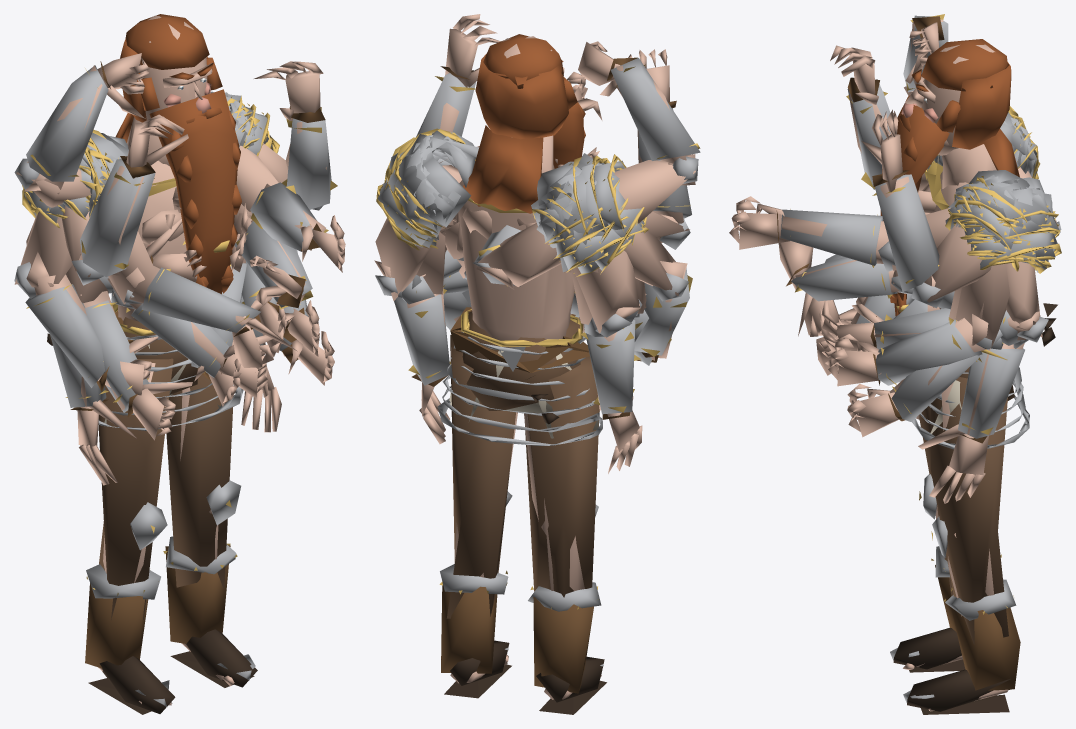
Rendered from dwarf_chain.glb.
3 renders of one model, left to right at view 1: azimuth 30°, elevation 25°; view 2: azimuth 150°, elevation 25°; view 3: azimuth 270°, elevation 25°, orthographic. The views are drawn at different scales.
Parts seen in each view (by area): view 1: B_6d, B_0d, B_7d, R.cast_31d, R.raised_19d, R.staffR_27d, R.xbowR_39d, L.cast_67d, R.staffR_25d, L.bowArm_55d, R.weapon_15d, R.twoR_35d (+35 smaller); view 2: B_6d, B_0d, B_7d, B_1d, B_5d, R.raised_19d, L.rest_47d, L.carry_76d, R.rest_11d, R.raised_20d, R.draw_21d, R.carry_41d (+29 smaller); view 3: B_0d, B_7d, B_6d, L.cast_67d, L.bowArm_55d, L.rest_47d, L.shield_51d, L.xbowL_63d, L.shield_49d, L.carry_76d, L.cast_68d, L.cast_65d (+26 smaller).
Boxes of the visible parts, <box> form: B_6d: <box>98,317,241,620</box>; B_0d: <box>115,14,241,294</box>; B_7d: <box>85,536,257,714</box>; R.cast_31d: <box>71,156,155,285</box>; R.raised_19d: <box>14,61,110,189</box>; R.staffR_27d: <box>14,262,109,391</box>; R.xbowR_39d: <box>120,267,260,336</box>; L.cast_67d: <box>282,106,337,210</box>; R.staffR_25d: <box>14,211,103,375</box>; L.bowArm_55d: <box>250,182,328,251</box>; R.weapon_15d: <box>85,300,149,417</box>; R.twoR_35d: <box>111,288,228,377</box>; B_6d: <box>446,311,599,618</box>; B_0d: <box>463,34,585,213</box>; B_7d: <box>439,564,606,714</box>; B_1d: <box>456,180,574,347</box>; B_5d: <box>437,198,602,445</box>; R.raised_19d: <box>607,57,700,183</box>; L.rest_47d: <box>394,276,450,386</box>; L.carry_76d: <box>376,132,471,246</box>; R.rest_11d: <box>581,317,635,419</box>; R.raised_20d: <box>537,154,626,248</box>; R.draw_21d: <box>476,223,561,289</box>; R.carry_41d: <box>573,250,640,333</box>; B_0d: <box>880,39,1019,316</box>; B_7d: <box>890,546,1020,714</box>; B_6d: <box>919,367,1014,644</box>; L.cast_67d: <box>872,170,944,308</box>; L.bowArm_55d: <box>776,209,895,271</box>; L.rest_47d: <box>956,339,1028,443</box>; L.shield_51d: <box>873,317,1002,385</box>; L.xbowL_63d: <box>786,257,913,301</box>; L.shield_49d: <box>878,263,1009,374</box>; L.carry_76d: <box>947,177,1061,269</box>; L.cast_68d: <box>945,170,1050,271</box>; L.cast_65d: <box>880,176,991,302</box>.
Size of the model in its own units: 0.6619 by 1.36 by 0.6374.
